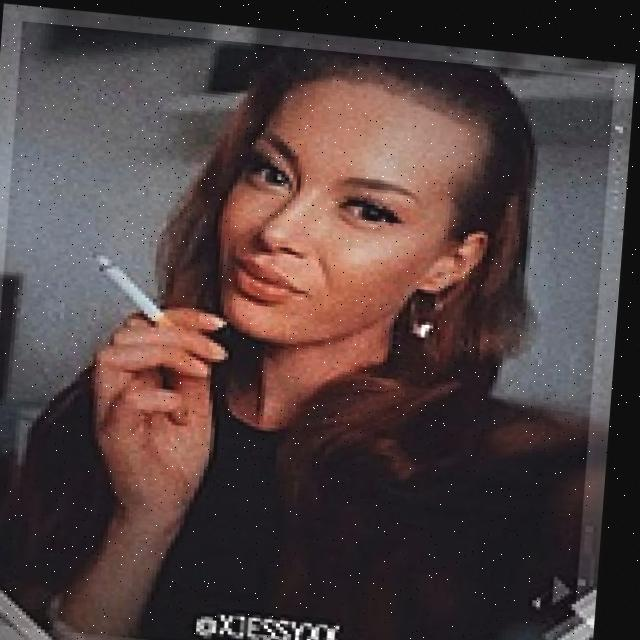cigarette: (96, 247, 176, 322)
